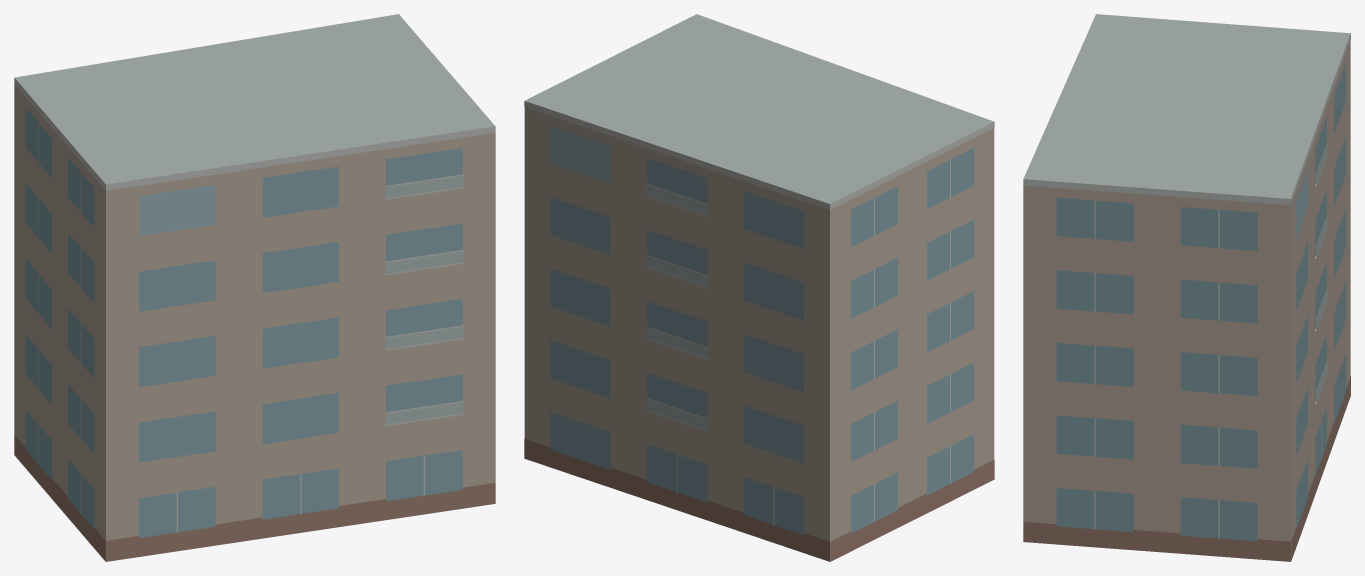
File: survey-upis-32767746.glb
3 renders of one model, left to right at view 1: azimuth 30°, elevation 25°; view 2: azimuth 150°, elevation 25°; view 3: azimuth 270°, elevation 25°, orthographic. The views are drawn at different scales.
Visible parts, largest first — view 1: survey-upis-32767746.tmp; view 2: survey-upis-32767746.tmp; view 3: survey-upis-32767746.tmp.
Part boxes in pixels (x1,y1,x2,y2): survey-upis-32767746.tmp: [14, 14, 495, 561]; survey-upis-32767746.tmp: [524, 14, 994, 561]; survey-upis-32767746.tmp: [1023, 14, 1350, 561].
Size of the model in its own units: 15.54 by 14.2 by 11.62.
